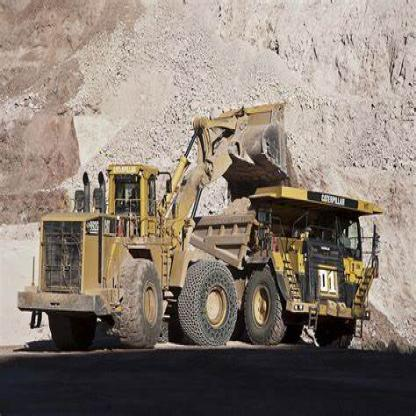bull_dozer/loader/grader: (13, 88, 296, 356)
